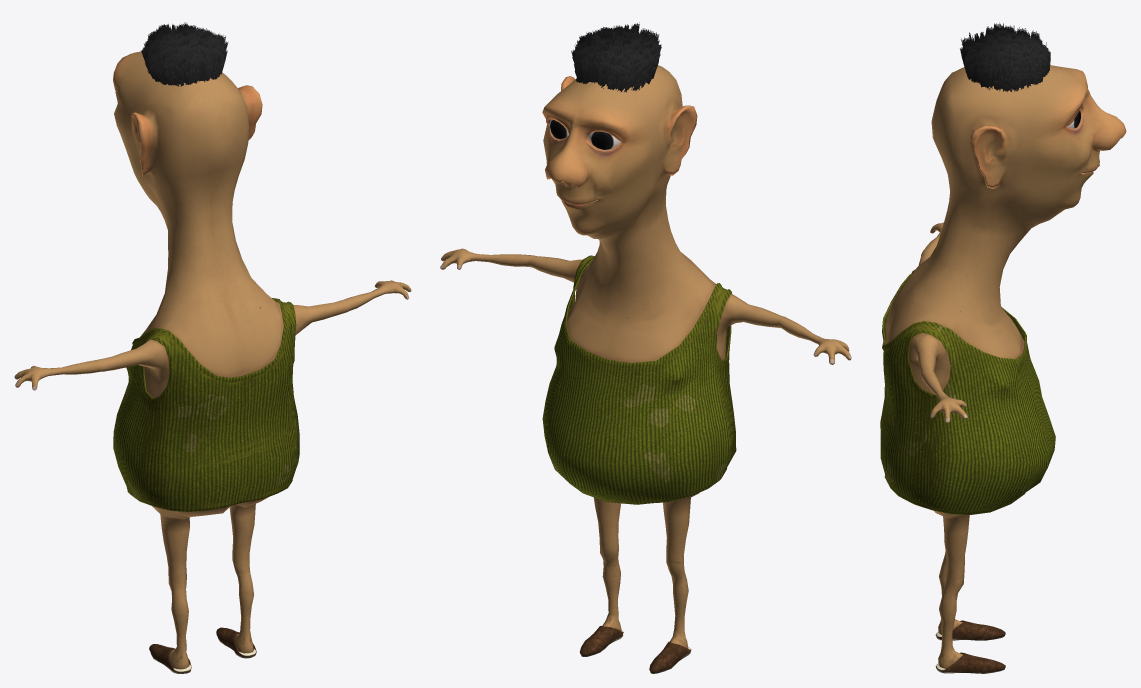
The model's file is hamood.glb.
3 renders of one model, left to right at view 1: azimuth 30°, elevation 25°; view 2: azimuth 150°, elevation 25°; view 3: azimuth 270°, elevation 25°, orthographic. The views are drawn at different scales.
Visible parts, largest first — view 1: habibi_geo_6, shirt_geo_12, hair_geo_7; view 2: habibi_geo_6, shirt_geo_12, hair_geo_7, r_shoe_geo_11, l_shoe_geo_9; view 3: habibi_geo_6, shirt_geo_12, hair_geo_7, r_shoe_geo_11, l_shoe_geo_9.
Part boxes in pixels (left/top/right/bottom): habibi_geo_6: left=14, top=51, right=411, bottom=669; shirt_geo_12: left=113, top=298, right=299, bottom=511; hair_geo_7: left=141, top=22, right=228, bottom=86; habibi_geo_6: left=440, top=65, right=851, bottom=648; shirt_geo_12: left=542, top=255, right=736, bottom=504; hair_geo_7: left=571, top=22, right=661, bottom=92; r_shoe_geo_11: left=580, top=626, right=623, bottom=656; l_shoe_geo_9: left=649, top=641, right=691, bottom=673; habibi_geo_6: left=885, top=65, right=1126, bottom=668; shirt_geo_12: left=880, top=269, right=1055, bottom=514; hair_geo_7: left=960, top=23, right=1050, bottom=92; r_shoe_geo_11: left=935, top=652, right=1005, bottom=673; l_shoe_geo_9: left=935, top=620, right=1005, bottom=640.
Size of the model in its own units: 0.9374 by 1.4 by 0.4976.
Materials: 2 (2 with a texture image).
